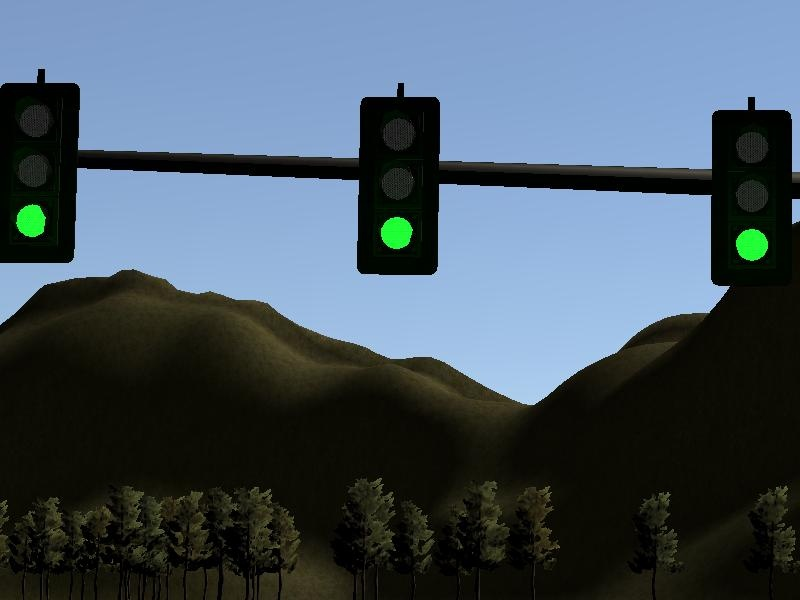GREEN: (706, 103, 800, 290), (351, 91, 446, 276), (1, 76, 79, 268)
